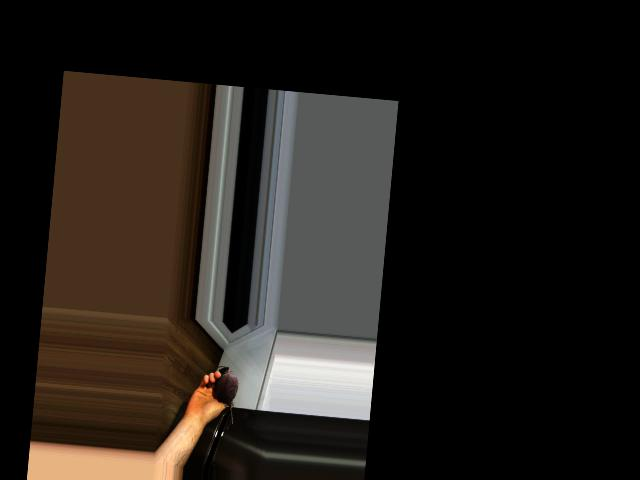beet: (212, 365, 239, 424)
